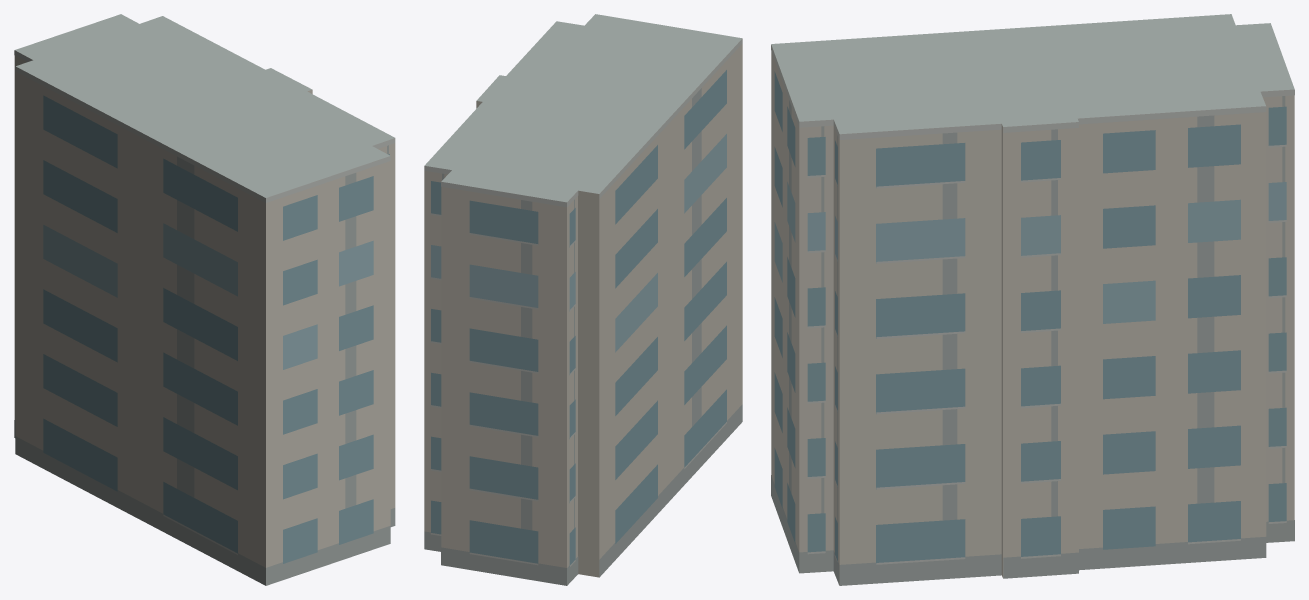
The model's file is survey-upis-32574679.glb.
The picture shows the model from 3 angles, left to right: view 1: azimuth 30°, elevation 25°; view 2: azimuth 150°, elevation 25°; view 3: azimuth 270°, elevation 25°; orthographic projection. The views are drawn at different scales.
Visible parts, largest first — view 1: survey-upis-32574679.tmp; view 2: survey-upis-32574679.tmp; view 3: survey-upis-32574679.tmp.
Part boxes in pixels (<box>): survey-upis-32574679.tmp: <box>14,14,395,585</box>; survey-upis-32574679.tmp: <box>424,14,742,585</box>; survey-upis-32574679.tmp: <box>771,14,1294,585</box>.
Size of the model in its own units: 10.63 by 18.6 by 19.56.
